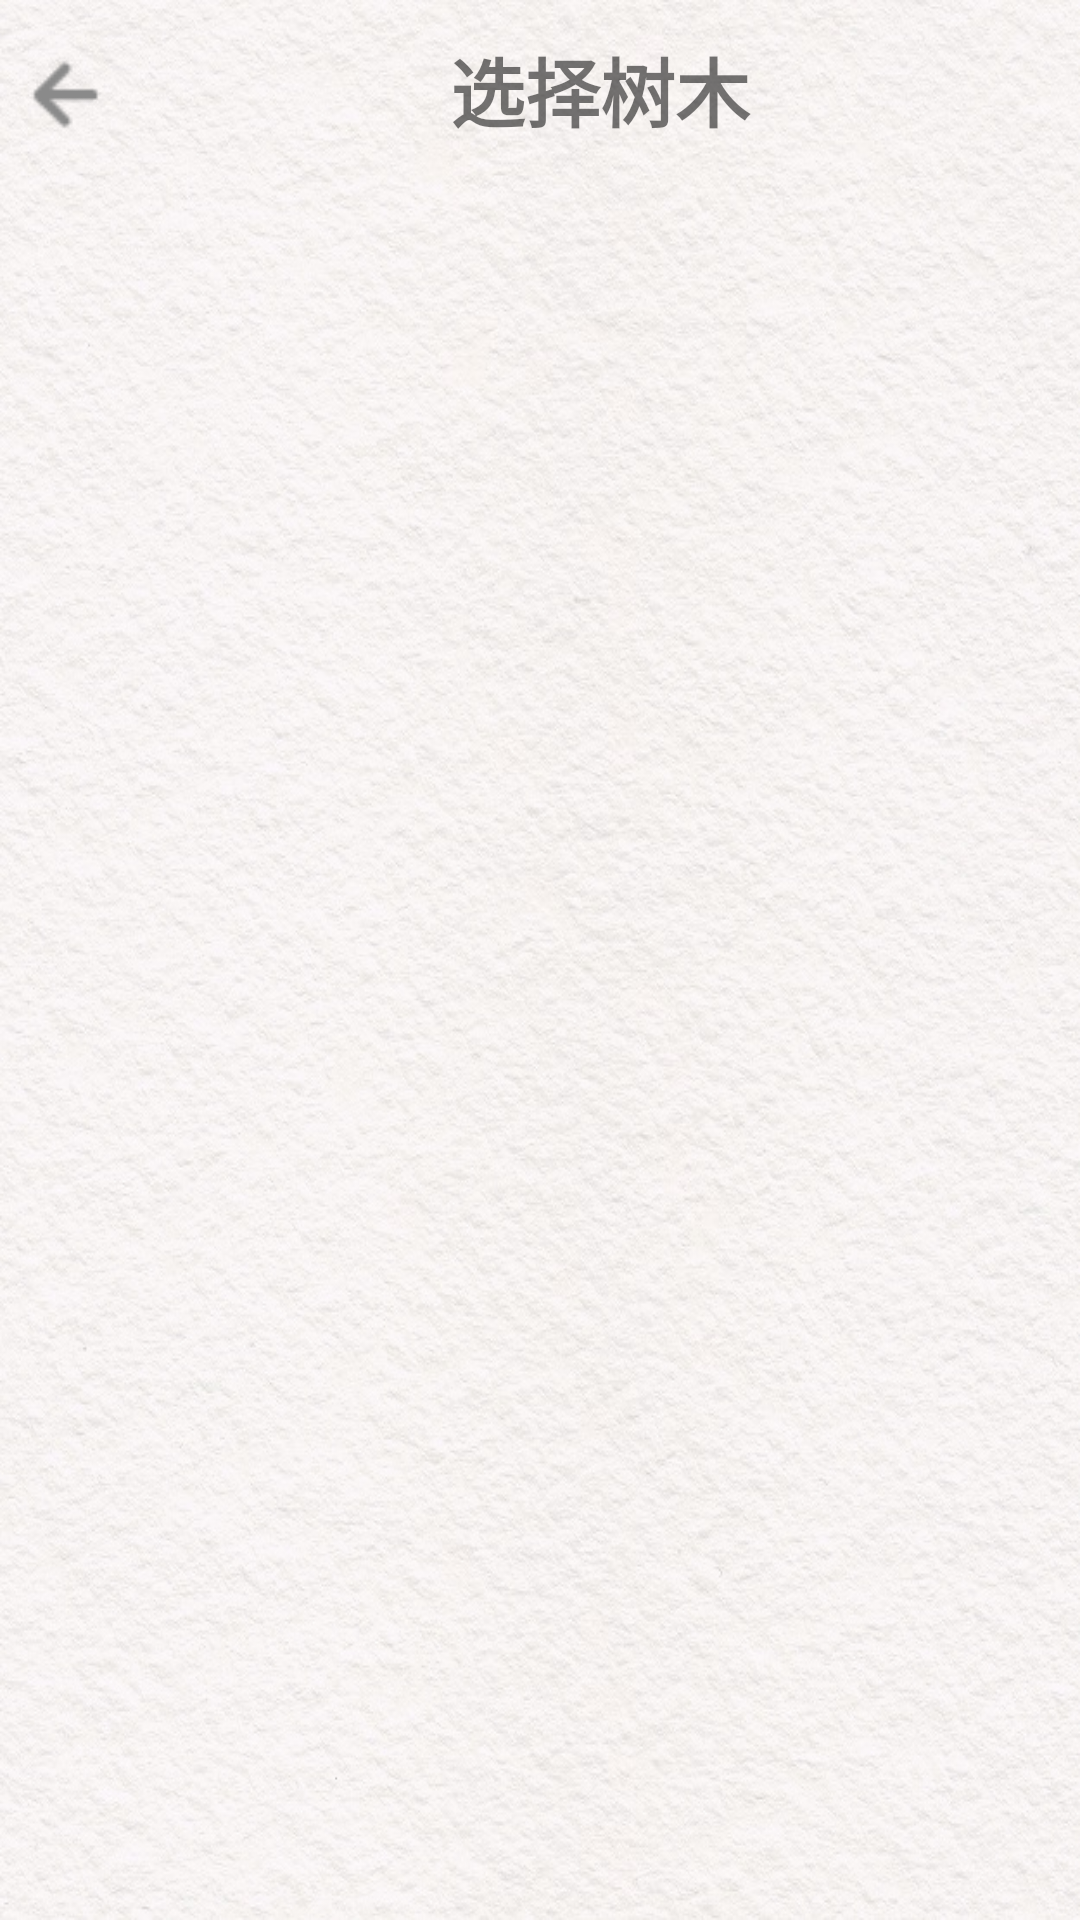

Where icons sit on this 1080px x 1920px app screen, as bbox=(x1, y1, x2, y2):
back: bbox=(33, 61, 98, 128)
